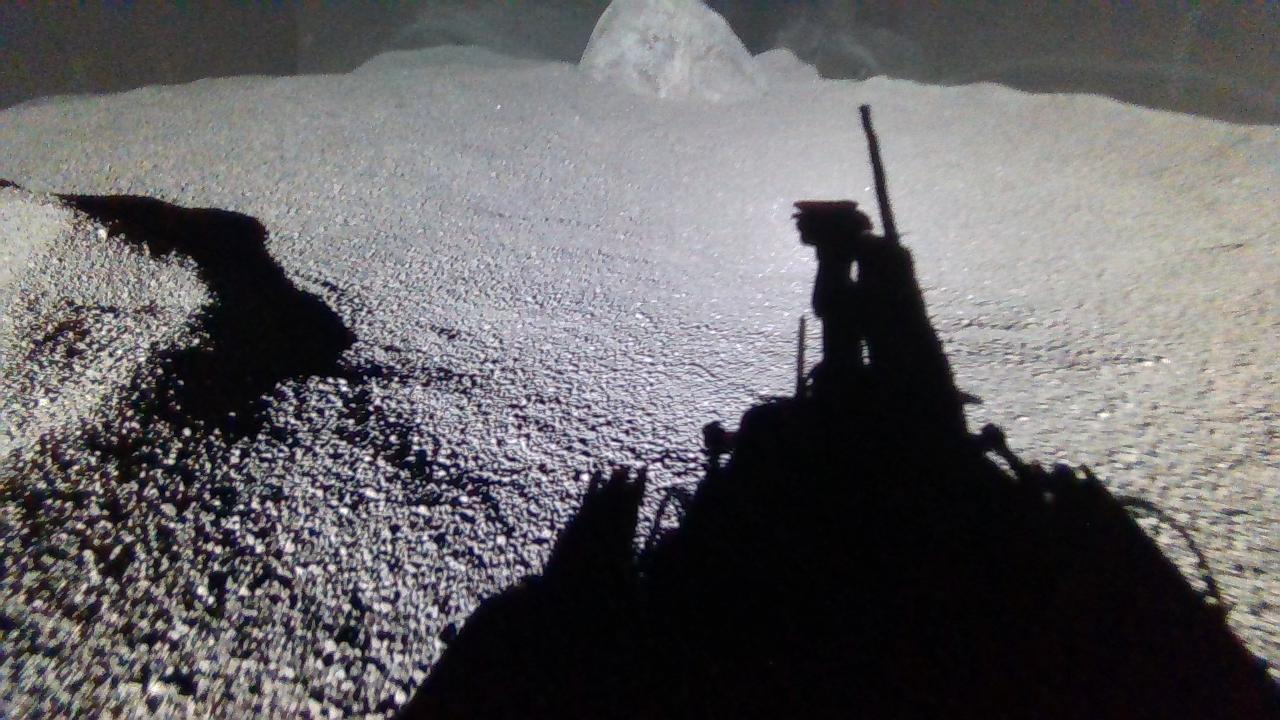rock: (580, 0, 765, 100)
